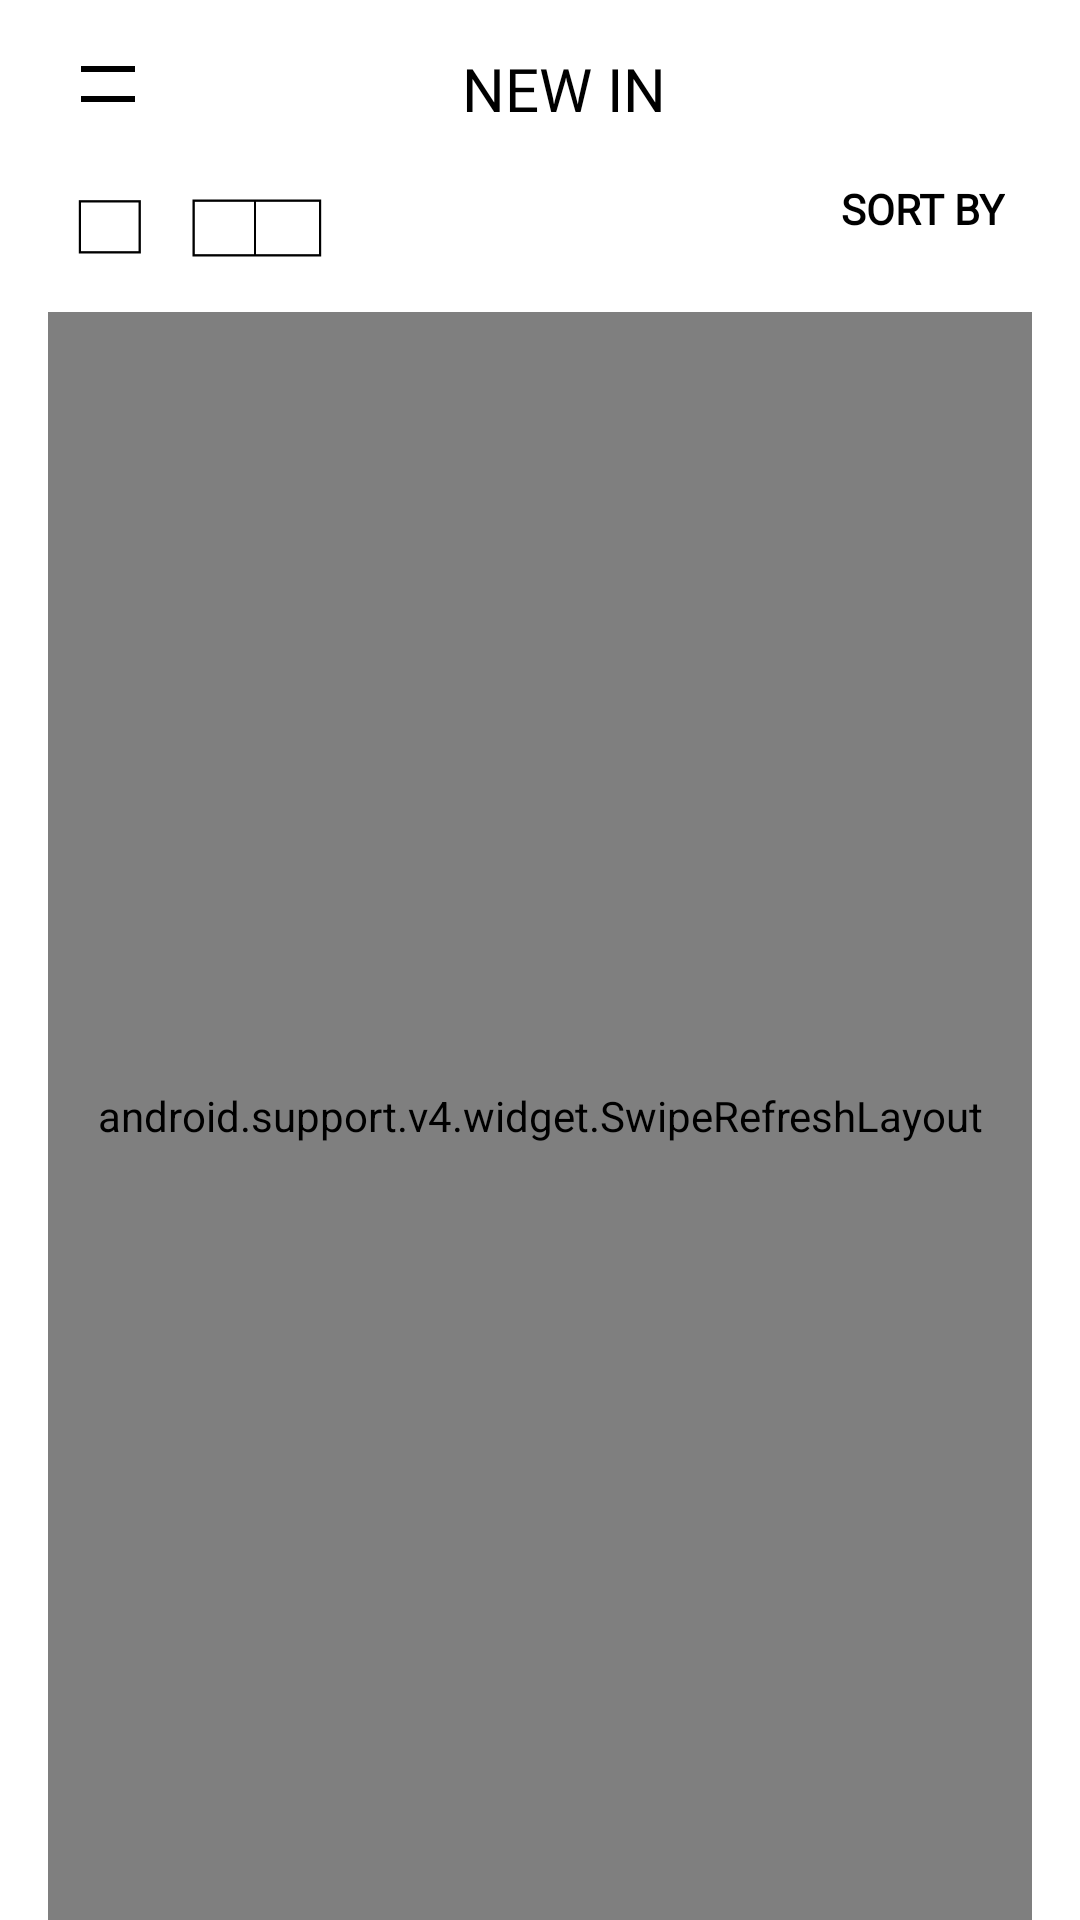

Icon click points for this 1080 × 1920 phone screenshot, format point (x, y):
menu: point (108, 84)
